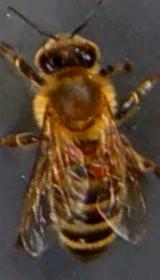varroa_mite: (82, 154, 110, 181)
